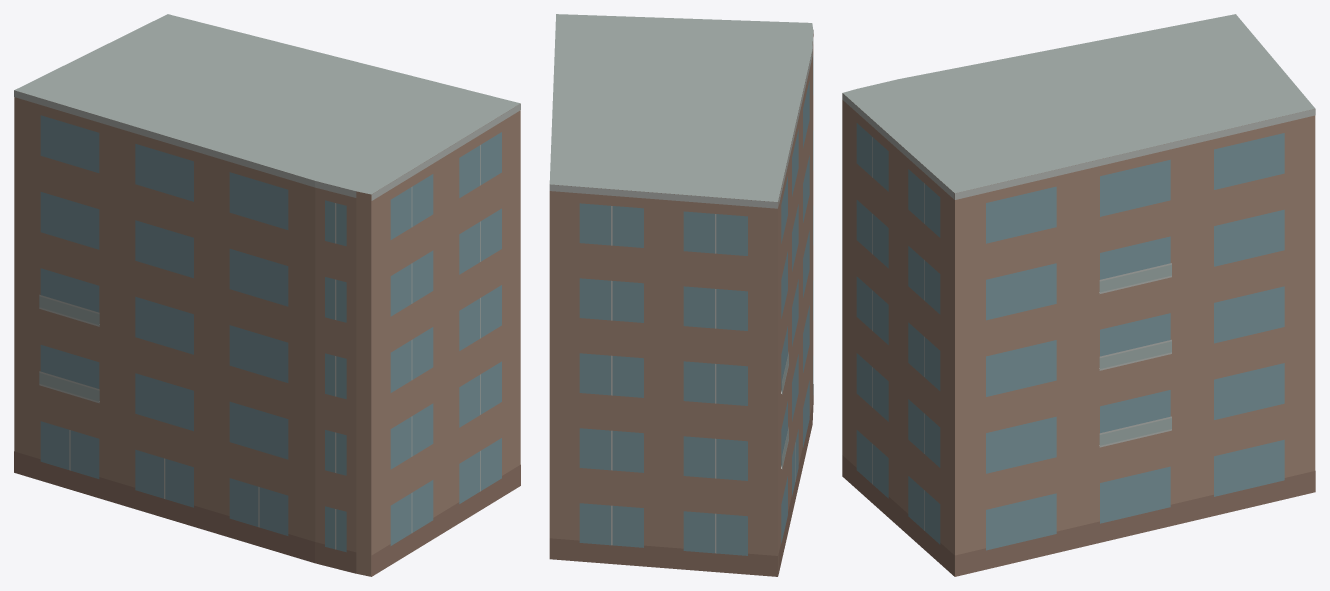
Rendered from survey-upis-33013990.glb.
The picture shows the model from 3 angles, left to right: view 1: azimuth 30°, elevation 25°; view 2: azimuth 150°, elevation 25°; view 3: azimuth 270°, elevation 25°; orthographic projection. The views are drawn at different scales.
Parts seen in each view (by area): view 1: survey-upis-33013990.tmp; view 2: survey-upis-33013990.tmp; view 3: survey-upis-33013990.tmp.
Part boxes in pixels (x1,y1,x2,y2): survey-upis-33013990.tmp: [14, 14, 520, 576]; survey-upis-33013990.tmp: [549, 14, 813, 576]; survey-upis-33013990.tmp: [842, 14, 1315, 576].
Size of the model in its own units: 13.9 by 13.85 by 15.49.
